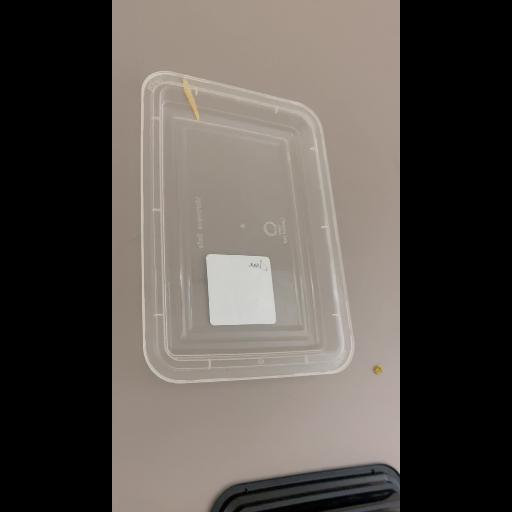lp_cup_lids: (134, 64, 362, 412)
